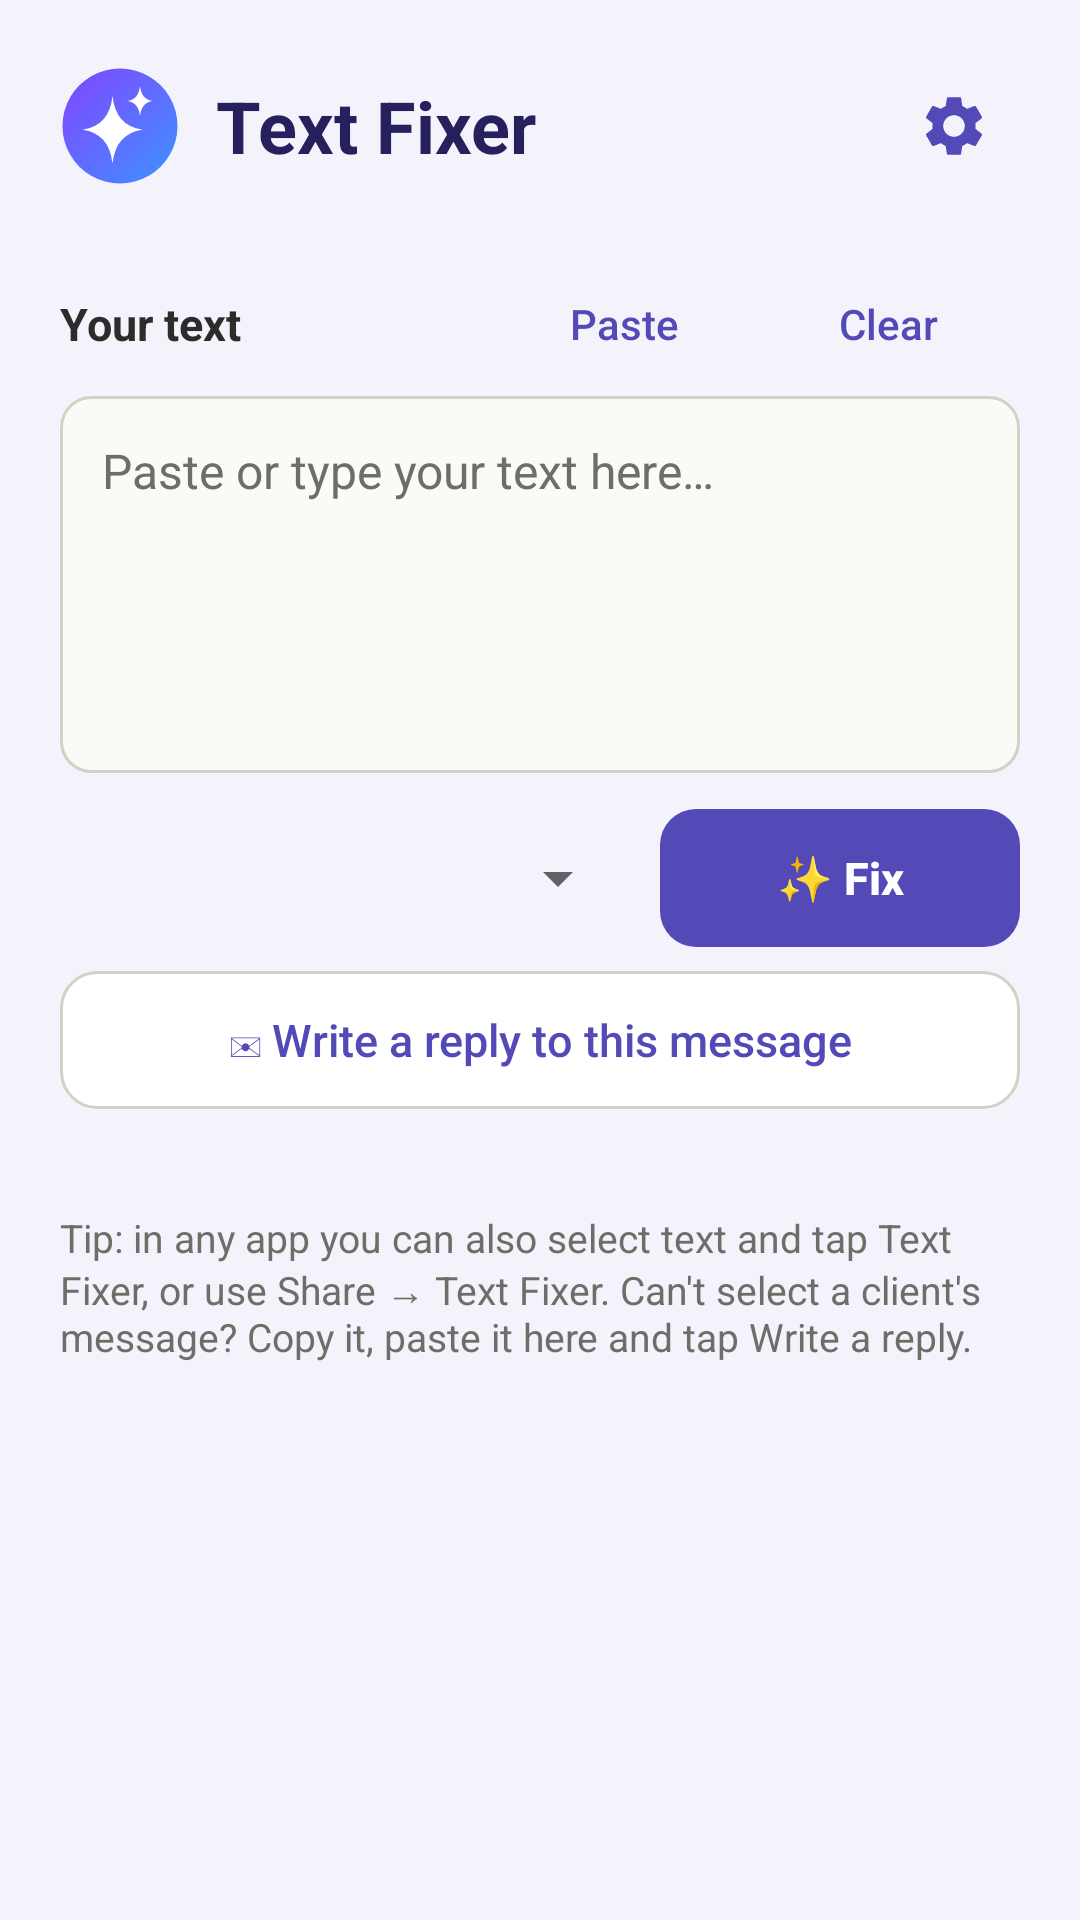

Where to tap for icons on this 1080px x 1920px app screen, as [x,y]:
Settings: [954,126]
